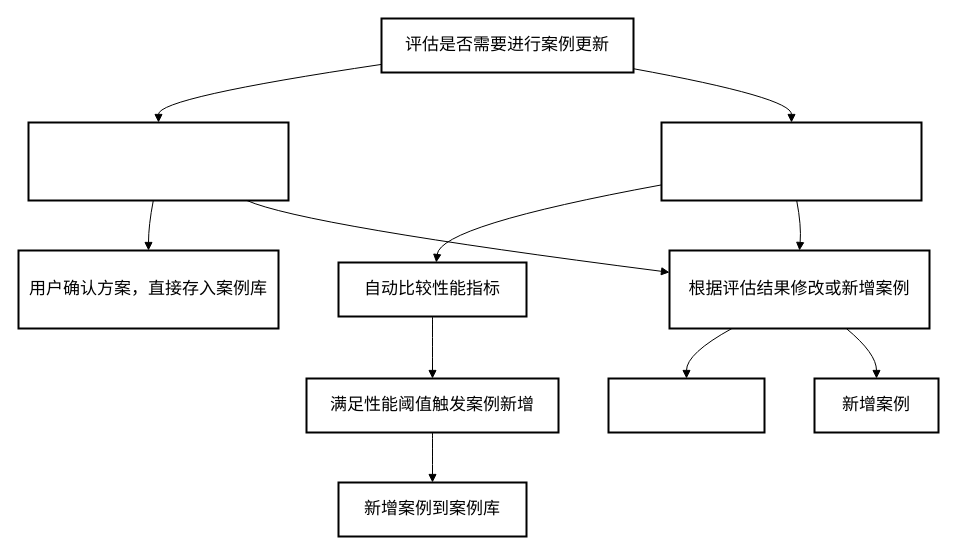
Image size: 956x554. Some labels were removed from this diagram. The centre of each missing label's shape, as x and y in pixels:
修改现有案例: the point at 686,405
显式反馈驱动：用户手动确认方案有效性: the point at 158,161
隐式性能驱动：比较当前方案与历史最佳性能: the point at 791,161
